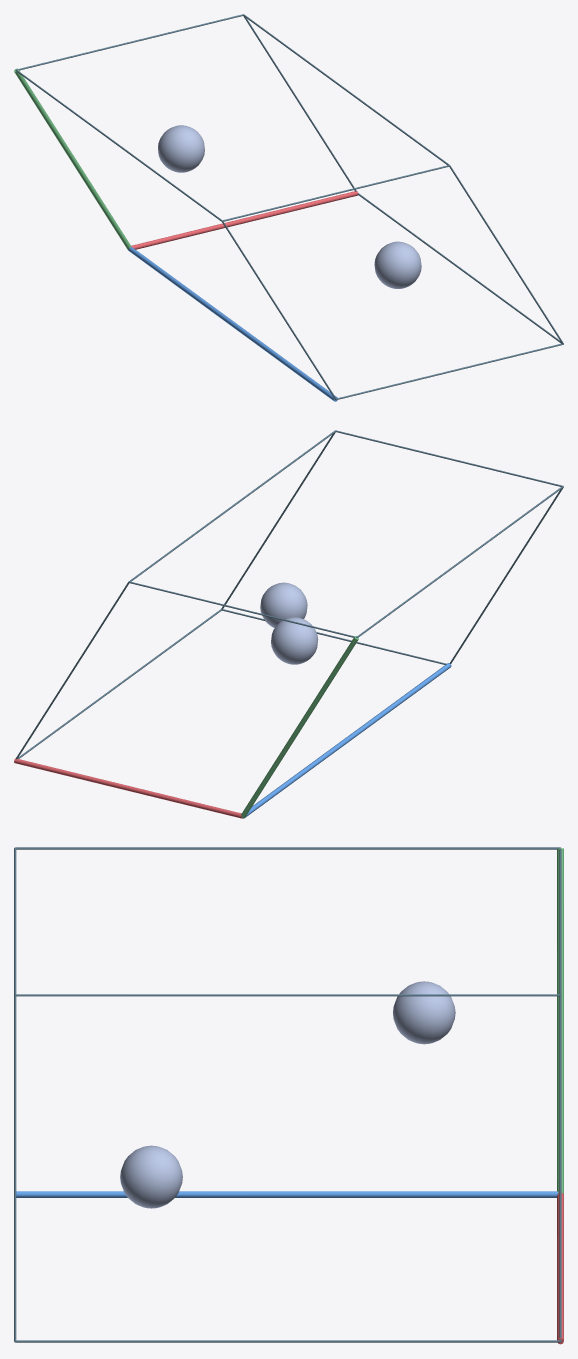
Rendered from nguyen-to-tm.glb.
The picture shows the model from 3 angles, top to bottom: view 1: azimuth 30°, elevation 25°; view 2: azimuth 150°, elevation 25°; view 3: azimuth 270°, elevation 25°; orthographic projection. The views are drawn at different scales.
Visible parts, largest first — view 1: Ô mạng và các trục a, b, c, Tm · Tm · 1 (×2); view 2: Ô mạng và các trục a, b, c, Tm · Tm · 1 (×2); view 3: Ô mạng và các trục a, b, c, Tm · Tm · 1 (×2).
Boxes of the visible parts, x1=… form: Ô mạng và các trục a, b, c: x1=14, y1=14, x2=563, y2=401; Tm · Tm · 1 (×2): x1=158, y1=125, x2=421, y2=288; Ô mạng và các trục a, b, c: x1=14, y1=430, x2=563, y2=818; Tm · Tm · 1 (×2): x1=260, y1=582, x2=318, y2=664; Ô mạng và các trục a, b, c: x1=14, y1=847, x2=563, y2=1344; Tm · Tm · 1 (×2): x1=120, y1=981, x2=455, y2=1208.
Bounding box in the file's own units: 5.35 × 3.12 × 5.6.
